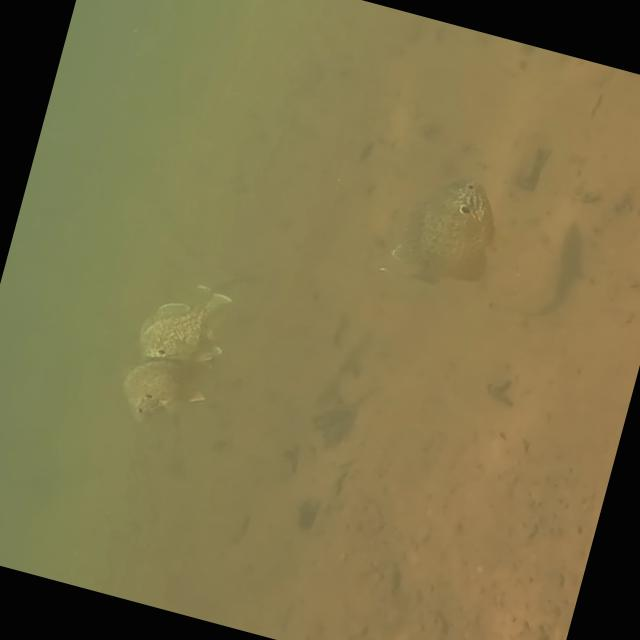Gunes Levregi: (373, 160, 515, 310)
